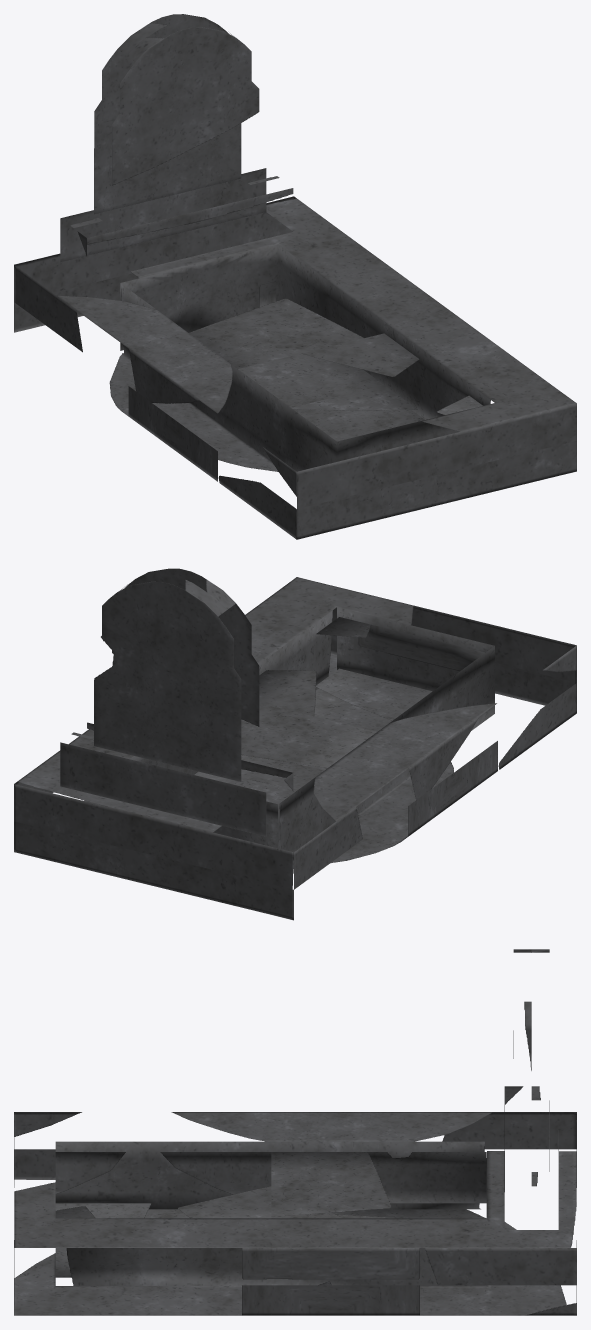
File: grave_07.fbx
3 views of the same model, one above another, from view 1: azimuth 30°, elevation 25°; view 2: azimuth 150°, elevation 25°; view 3: azimuth 270°, elevation 25° (orthographic).
Parts seen in each view (by area): view 1: grave.006; view 2: grave.006; view 3: grave.006.
Part boxes in pixels (x1,y1,x2,y2): grave.006: (14, 14, 576, 539); grave.006: (14, 568, 576, 920); grave.006: (14, 949, 576, 1315).
Bounding box in the file's own units: 199 × 199 × 349.
